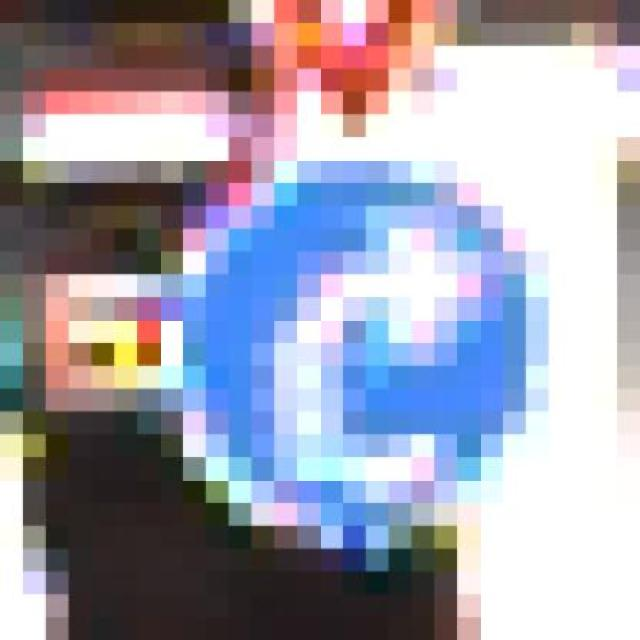Turn right ahead: (137, 114, 549, 526)
